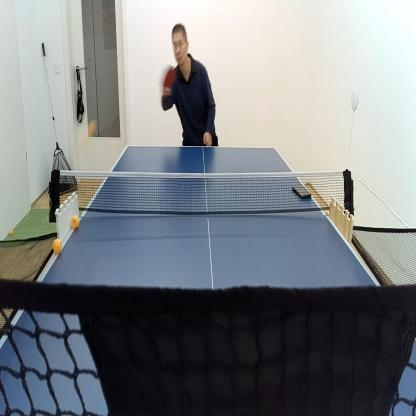Ball: (52, 237, 61, 253), (86, 121, 94, 136), (72, 215, 80, 228), (10, 229, 13, 235)
